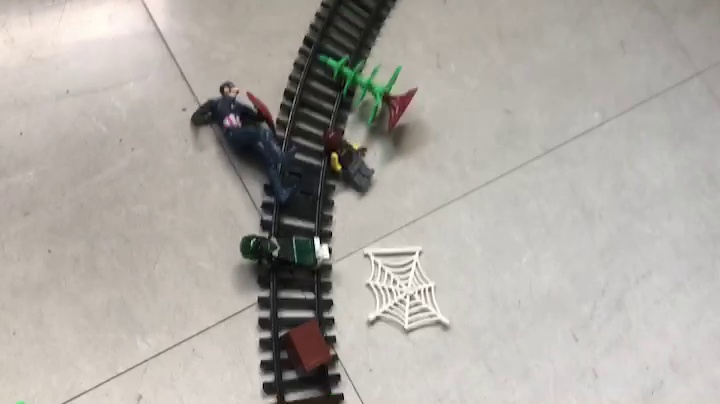box: (285, 320, 333, 380)
people: (191, 80, 304, 207), (239, 234, 334, 276), (320, 128, 378, 196)
tree: (316, 50, 419, 133)
web: (362, 246, 451, 333)
